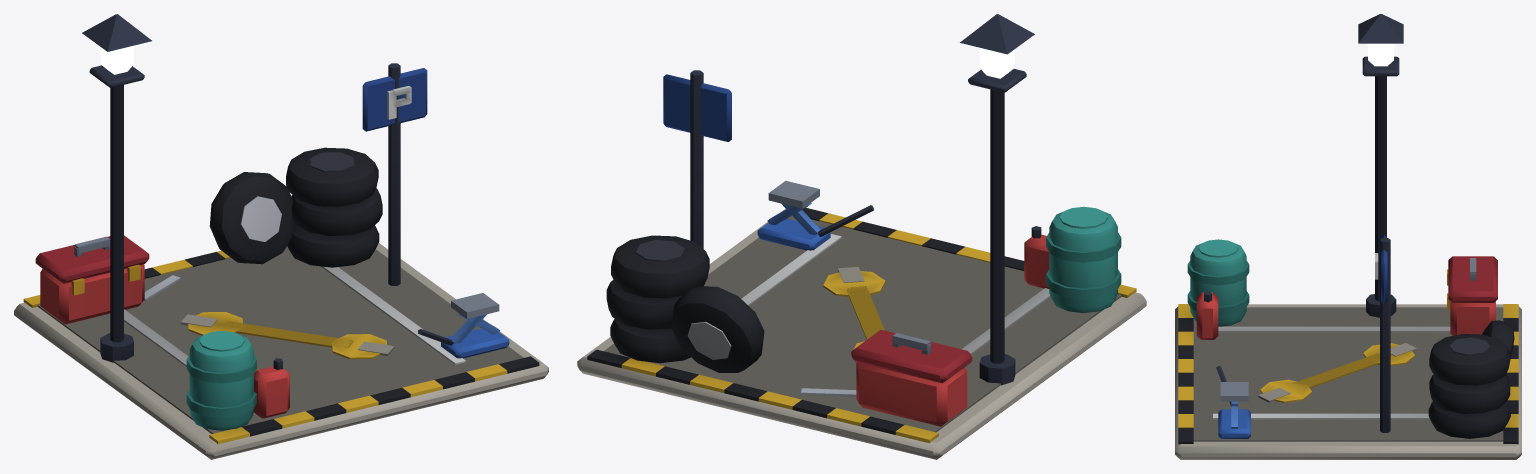
Rendered from o_parkplatz.glb.
The picture shows the model from 3 angles, left to right: view 1: azimuth 30°, elevation 25°; view 2: azimuth 150°, elevation 25°; view 3: azimuth 270°, elevation 25°; orthographic projection. The views are drawn at different scales.
Visible parts, largest first — view 1: body, lamp_glow; view 2: body, lamp_glow; view 3: body, lamp_glow.
Part boxes in pixels (<box>): body: <box>14,14,548,459</box>; lamp_glow: <box>100,45,133,74</box>; body: <box>577,14,1146,459</box>; lamp_glow: <box>979,48,1014,78</box>; body: <box>1175,14,1521,459</box>; lamp_glow: <box>1368,43,1393,66</box>.
Bounding box in the file's own units: 3.2 × 3.18 × 3.2.
